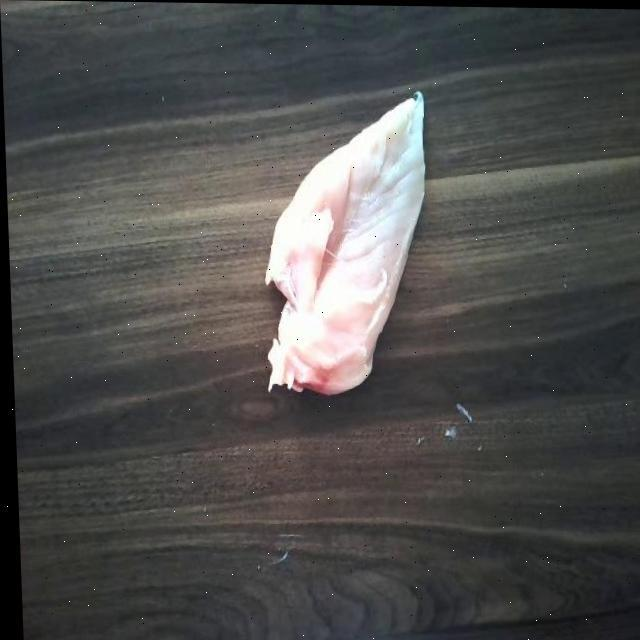breast: (256, 84, 434, 420)
